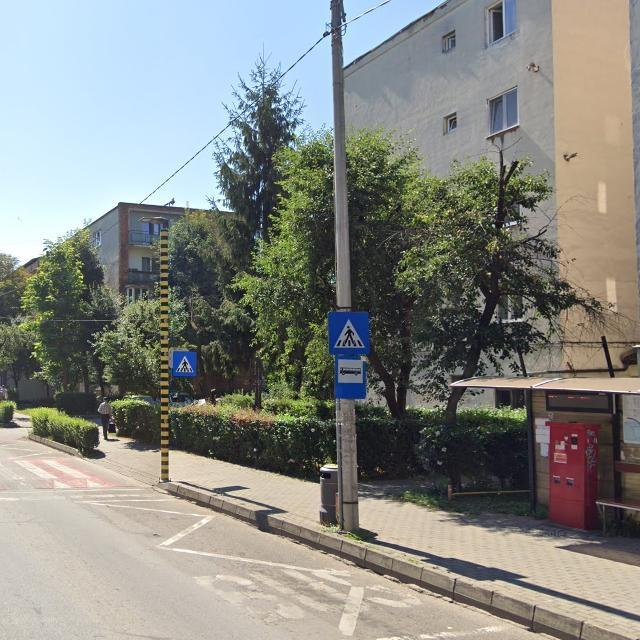info_crosswalk: (328, 311, 371, 356), (171, 350, 197, 377)
